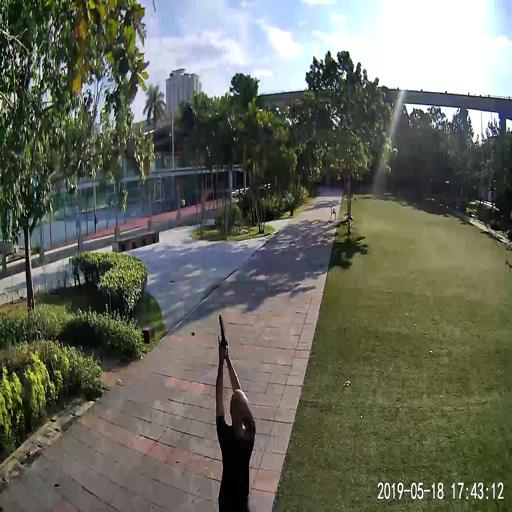pistol: (217, 312, 229, 346)
